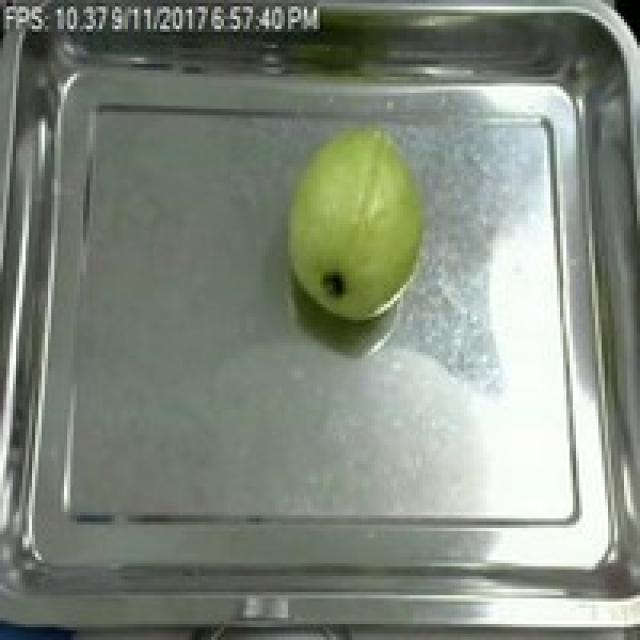Fruit: (272, 115, 438, 333)
